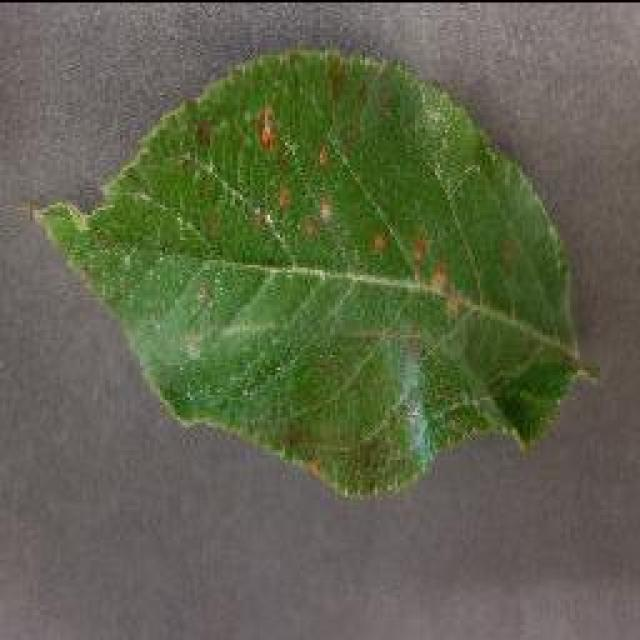apple cedar apple rust: (30, 45, 598, 500)
